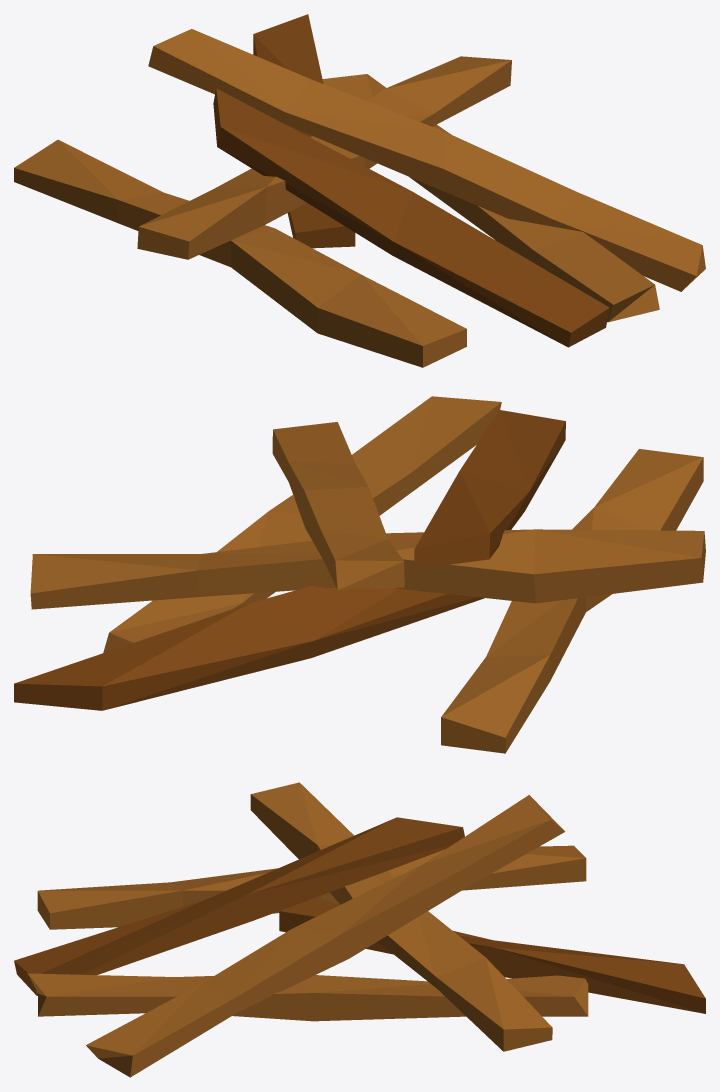
File: Group_Plank_02.fbx
3 renders of one model, top to bottom at view 1: azimuth 30°, elevation 25°; view 2: azimuth 150°, elevation 25°; view 3: azimuth 270°, elevation 25°, orthographic. The views are drawn at different scales.
Parts seen in each view (by area): view 1: Planks_Group_02; view 2: Planks_Group_02; view 3: Planks_Group_02.
Part boxes in pixels (box(x1,y1,x2,y2)): Planks_Group_02: box(14, 14, 705, 367); Planks_Group_02: box(14, 396, 705, 753); Planks_Group_02: box(14, 782, 705, 1077).
Size of the model in its own units: 2.34 by 0.6672 by 3.14.
